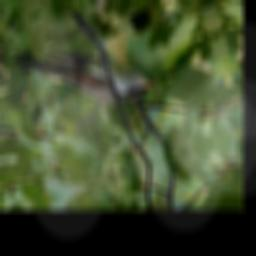Cuckoo: (13, 21, 158, 137)
